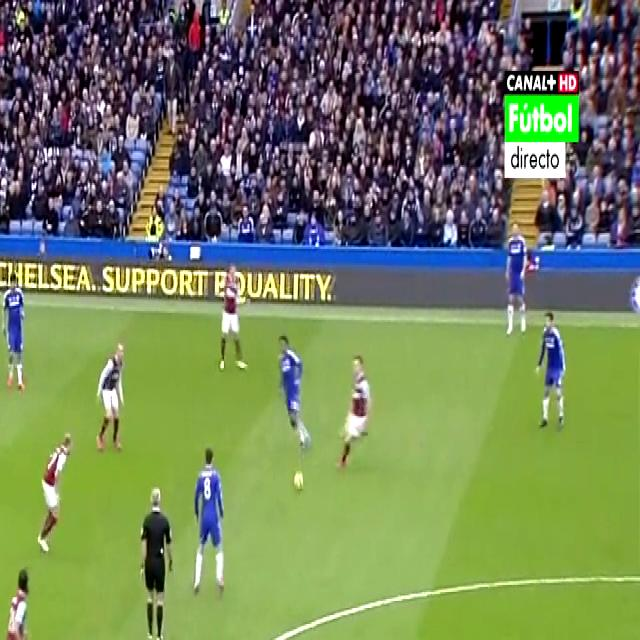ball: (283, 468, 307, 504)
referee: (137, 476, 177, 640)
soccer-player: (188, 442, 229, 600), (268, 318, 316, 452), (332, 340, 374, 472), (38, 435, 74, 555), (499, 205, 532, 334), (538, 304, 568, 433), (93, 338, 127, 450), (0, 266, 31, 386), (220, 255, 247, 373), (0, 563, 38, 640)
